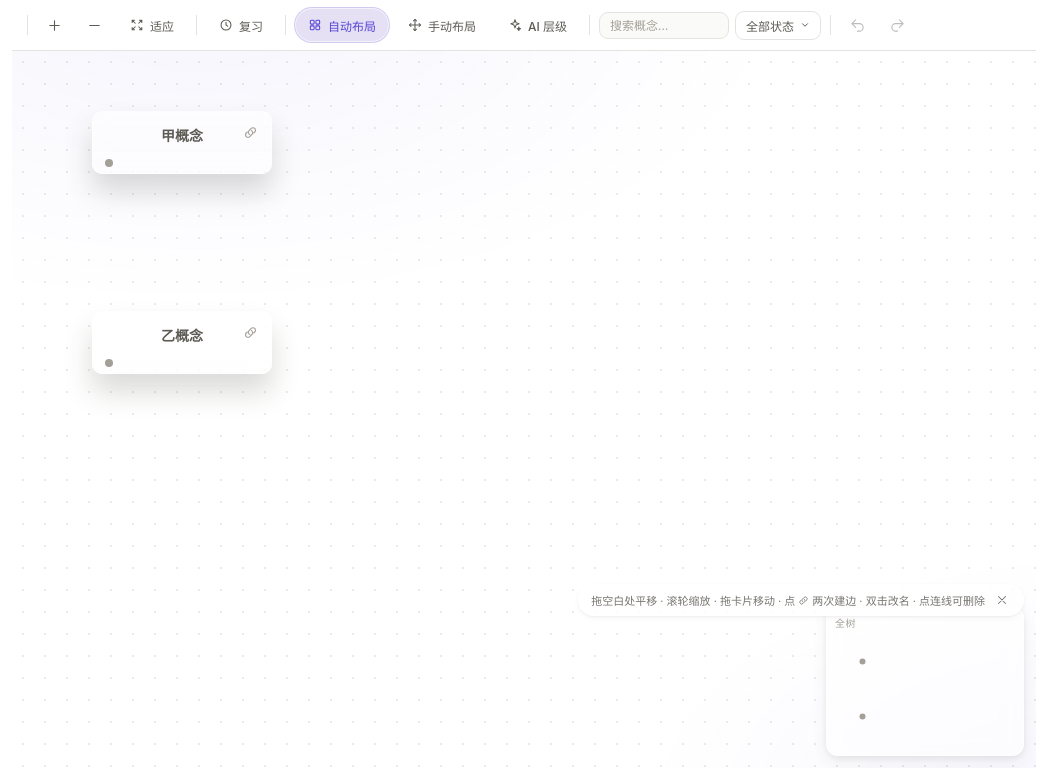
Test: 连线：点击-点击建边（反馈 #1） › 点第一个连接键进入待连接：出现提示条
Click the button titled "连接：点击后再点另一卡片的连接键" next to "甲概念": {"x": 250, "y": 132} [236, 118, 265, 147]
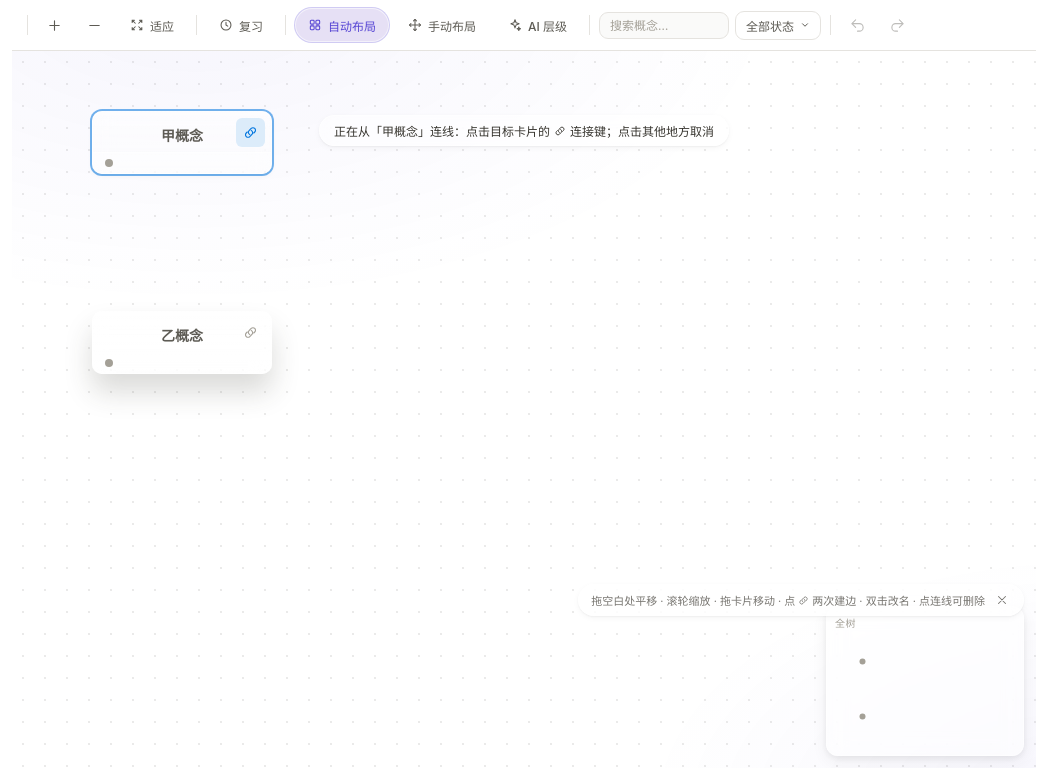
Expected: the text "正在从「甲概念」连线：点击目标卡片的 连接键；点击其他地方取消" is shown, [319, 115, 729, 146]
